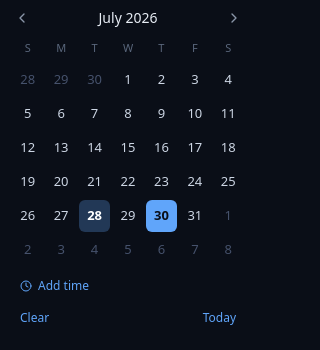
Test: DueDatePicker › before a time is set › goes back to "Add time" when left empty, saving nothing
Step 1. Click the button "Add time" → click(54, 286), box [12,274,97,298]
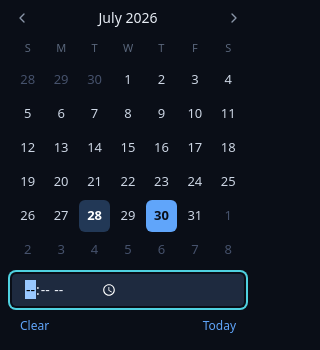
Step 2. Press Tab
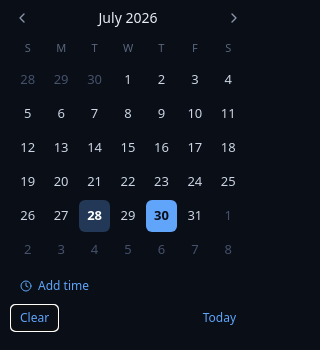
Result: the button "Add time" is shown at [12,274,97,298]
